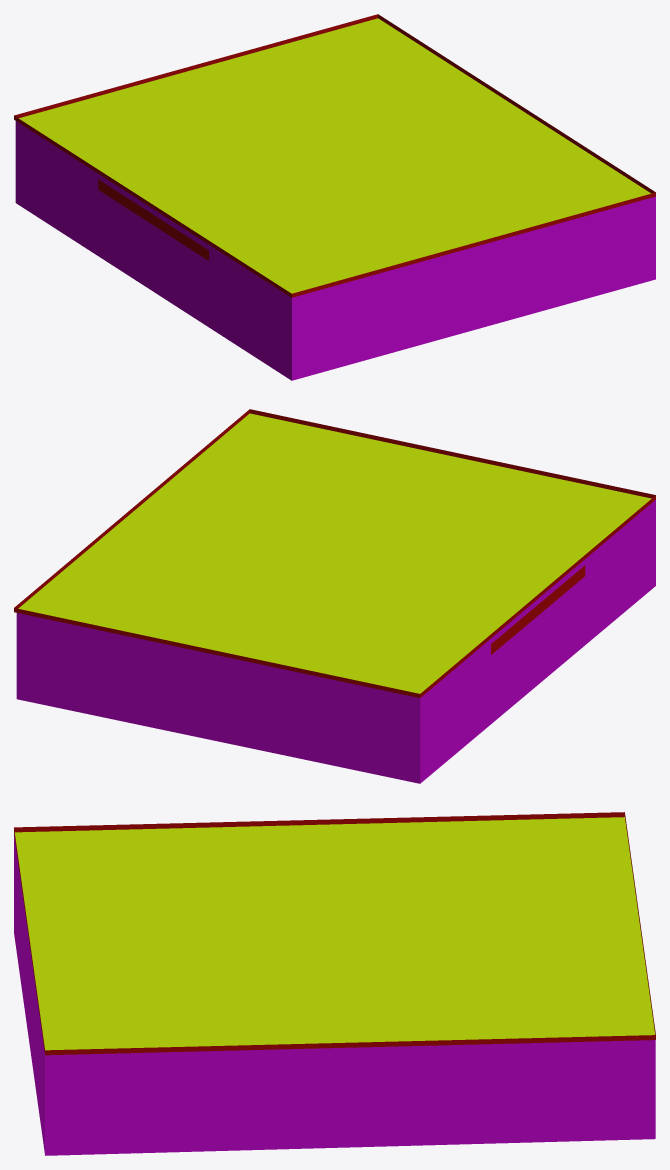
File: ces_77.glb
The picture shows the model from 3 angles, top to bottom: view 1: azimuth 30°, elevation 25°; view 2: azimuth 150°, elevation 25°; view 3: azimuth 270°, elevation 25°; orthographic projection. The views are drawn at different scales.
Visible parts, largest first — view 1: ces_77; view 2: ces_77; view 3: ces_77.
Part boxes in pixels (x1,y1,x2,y2): ces_77: (14, 14, 655, 380); ces_77: (14, 409, 655, 783); ces_77: (14, 812, 655, 1155).
Bounding box in the file's own units: 35.83 × 7.4 × 40.81.
